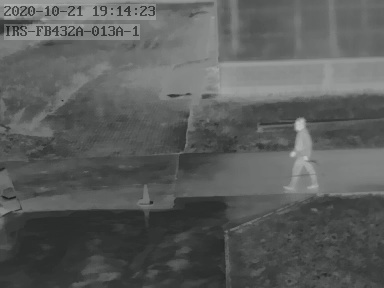person: (287, 114, 318, 189)
